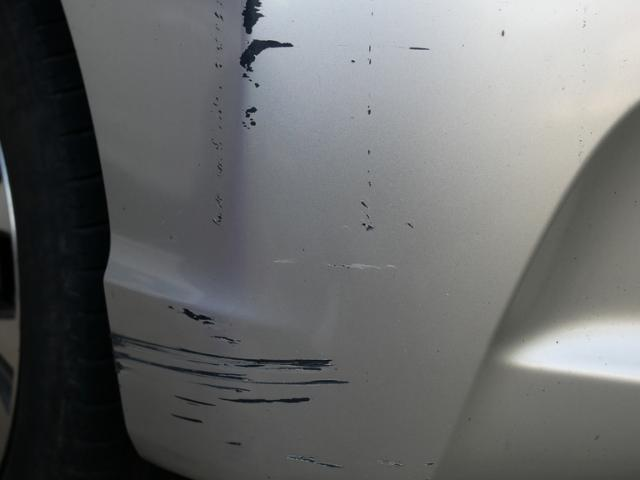Bumper: (129, 0, 493, 480)
